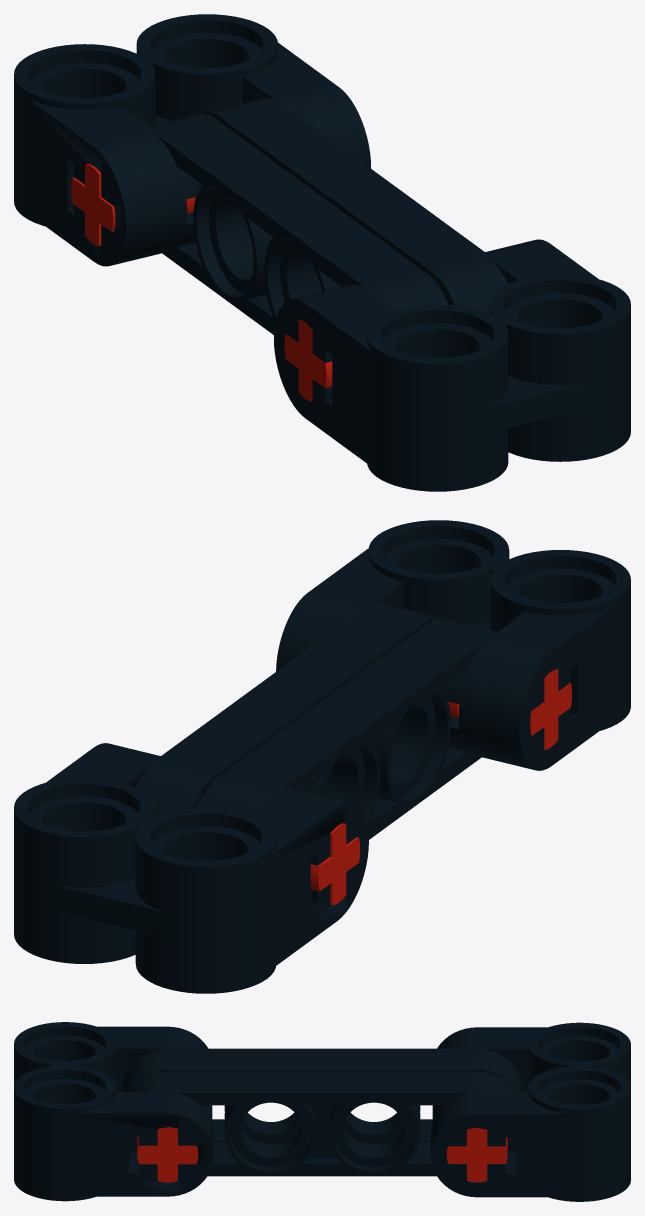
Rendered from parallel_con_2.glb.
The picture shows the model from 3 angles, top to bottom: view 1: azimuth 30°, elevation 25°; view 2: azimuth 150°, elevation 25°; view 3: azimuth 270°, elevation 25°; orthographic projection. The views are drawn at different scales.
Visible parts, largest first — view 1: 41678.dat, 41678.dat.001, 32449.dat.001, 32449.dat, 32062.dat.001, 32062.dat; view 2: 41678.dat.001, 41678.dat, 32449.dat.001, 32449.dat, 32062.dat.001, 32062.dat; view 3: 41678.dat.001, 41678.dat, 32449.dat, 32449.dat.001, 32062.dat, 32062.dat.001.
Boxes of the visible parts, x1=… form: 41678.dat: x1=274, y1=239, x2=630, y2=491; 41678.dat.001: x1=14, y1=14, x2=370, y2=266; 32449.dat.001: x1=148, y1=113, x2=448, y2=334; 32449.dat: x1=202, y1=98, x2=507, y2=313; 32062.dat.001: x1=71, y1=163, x2=195, y2=245; 32062.dat: x1=284, y1=320, x2=332, y2=401; 41678.dat.001: x1=14, y1=743, x2=368, y2=993; 41678.dat: x1=276, y1=520, x2=630, y2=770; 32449.dat.001: x1=197, y1=618, x2=497, y2=839; 32449.dat: x1=136, y1=603, x2=441, y2=816; 32062.dat.001: x1=310, y1=823, x2=360, y2=905; 32062.dat: x1=448, y1=669, x2=571, y2=749; 41678.dat.001: x1=431, y1=1022, x2=630, y2=1201; 41678.dat: x1=14, y1=1022, x2=213, y2=1201; 32449.dat: x1=129, y1=1071, x2=516, y2=1176; 32449.dat.001: x1=122, y1=1048, x2=522, y2=1145; 32062.dat: x1=137, y1=1127, x2=198, y2=1182; 32062.dat.001: x1=446, y1=1128, x2=507, y2=1182.
Size of the model in its own units: 0.4014 by 0.198 by 1.2.
